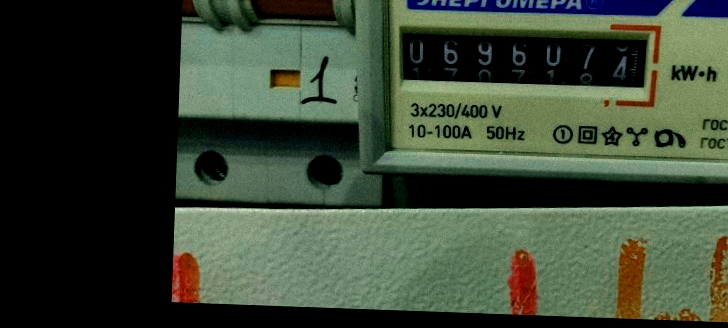0: (408, 35, 428, 65), (544, 39, 564, 67)
4: (611, 53, 630, 82)
6: (442, 37, 461, 65), (511, 38, 530, 66)
7: (579, 40, 599, 71)
9: (476, 38, 495, 67)
screen: (385, 11, 667, 108)
